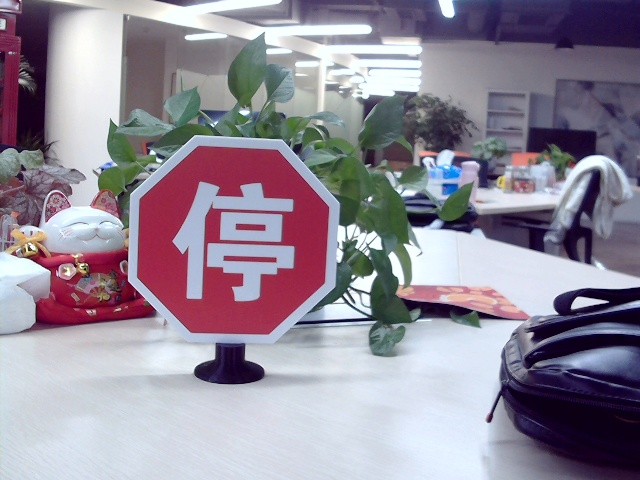stop: (170, 176, 295, 300)
